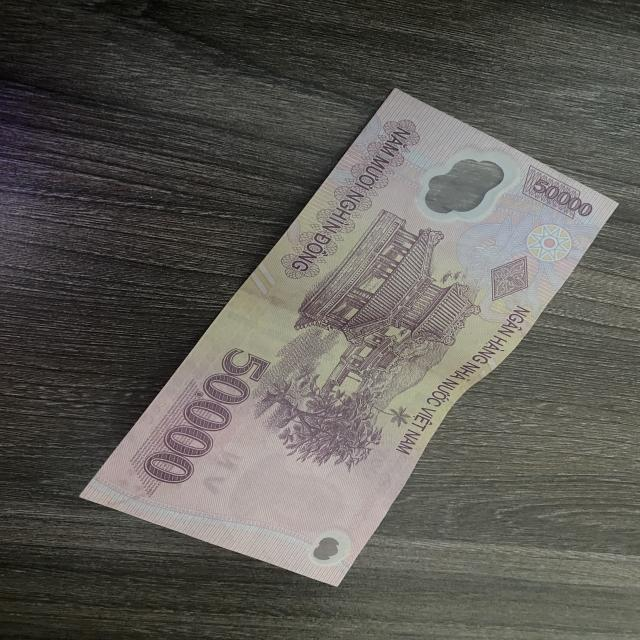50 000 VND: (76, 87, 622, 589)
